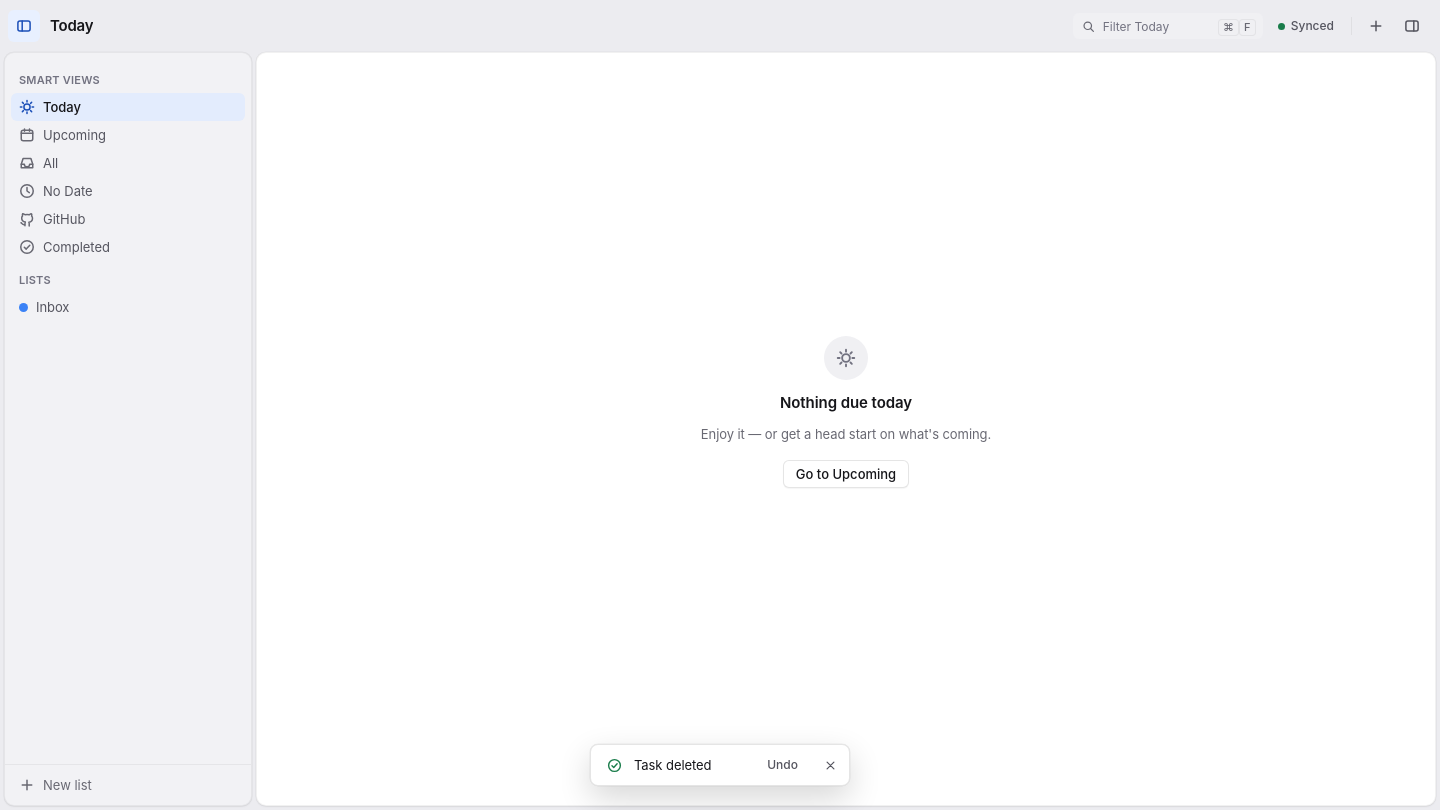
Test: Toasts › shows a toast with an action and dismisses it
Expected: the text "Task deleted" is shown, [634,757,711,773]
Click the button "Undo" at (783, 765), box [758,753,807,777]
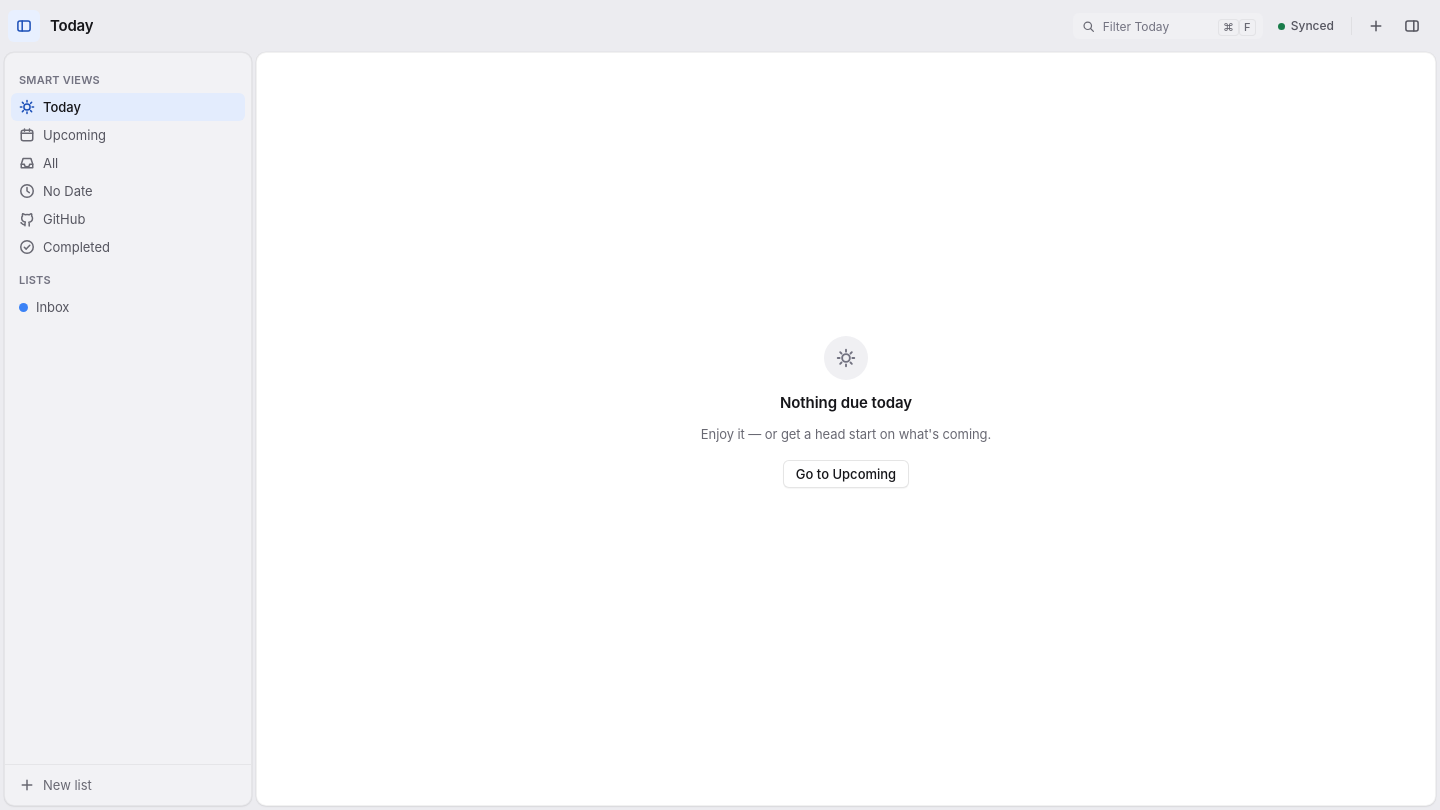
Expected: the text "Task deleted" is gone
